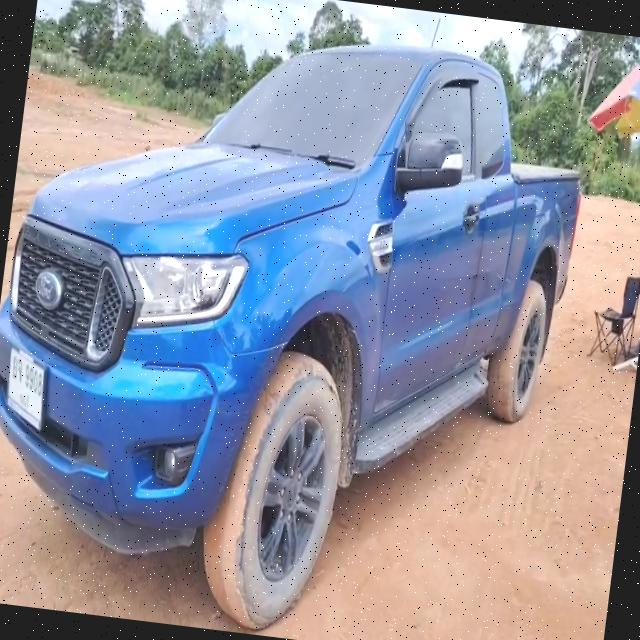Digit: (23, 362, 43, 397)
Licenseplate: (6, 346, 45, 432)
Provincename: (18, 387, 29, 411)
Thaichar: (11, 354, 23, 383)
